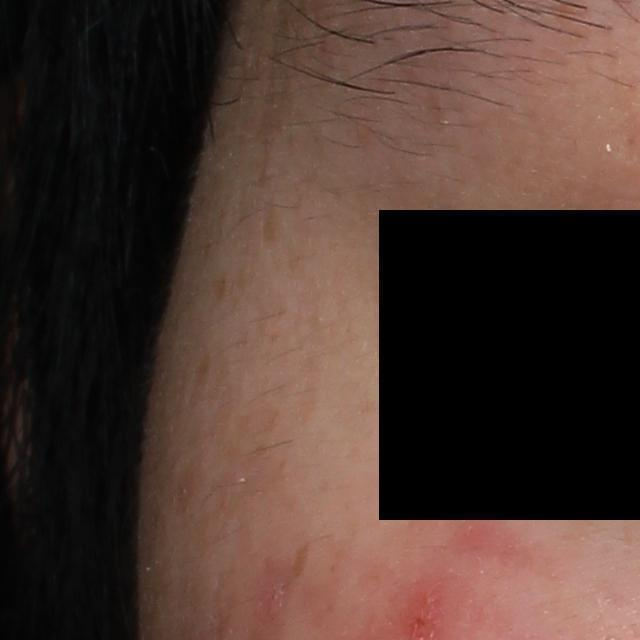melasma: (169, 457, 204, 518), (294, 355, 321, 432), (289, 539, 313, 581)
